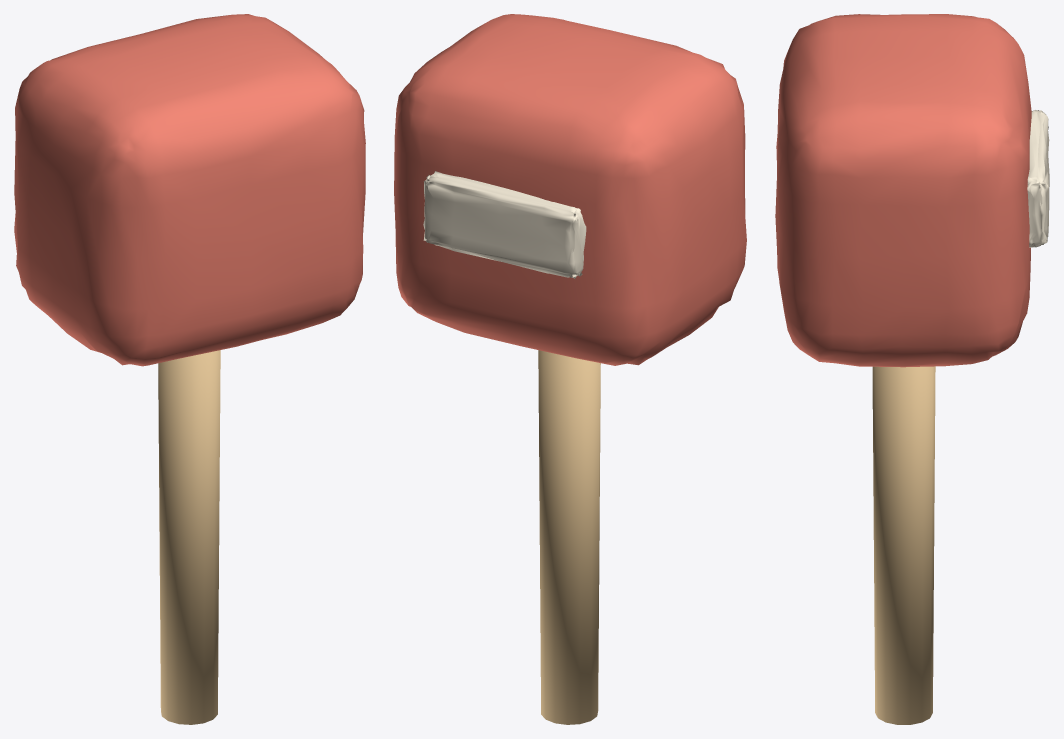
Rendered from mailbox.glb.
The picture shows the model from 3 angles, left to right: view 1: azimuth 30°, elevation 25°; view 2: azimuth 150°, elevation 25°; view 3: azimuth 270°, elevation 25°; orthographic projection.
Parts seen in each view (by area): view 1: box, post; view 2: box, post, slot; view 3: box, post, slot.
Boxes of the visible parts, x1=… form: box: x1=14, y1=14, x2=365, y2=366; post: x1=158, y1=350, x2=220, y2=724; box: x1=394, y1=14, x2=746, y2=365; post: x1=538, y1=350, x2=600, y2=724; slot: x1=423, y1=171, x2=586, y2=278; box: x1=775, y1=14, x2=1031, y2=367; post: x1=872, y1=366, x2=935, y2=724; slot: x1=1027, y1=110, x2=1049, y2=247.
Bounding box in the file's own units: 0.5002 × 1.13 × 0.4274.
